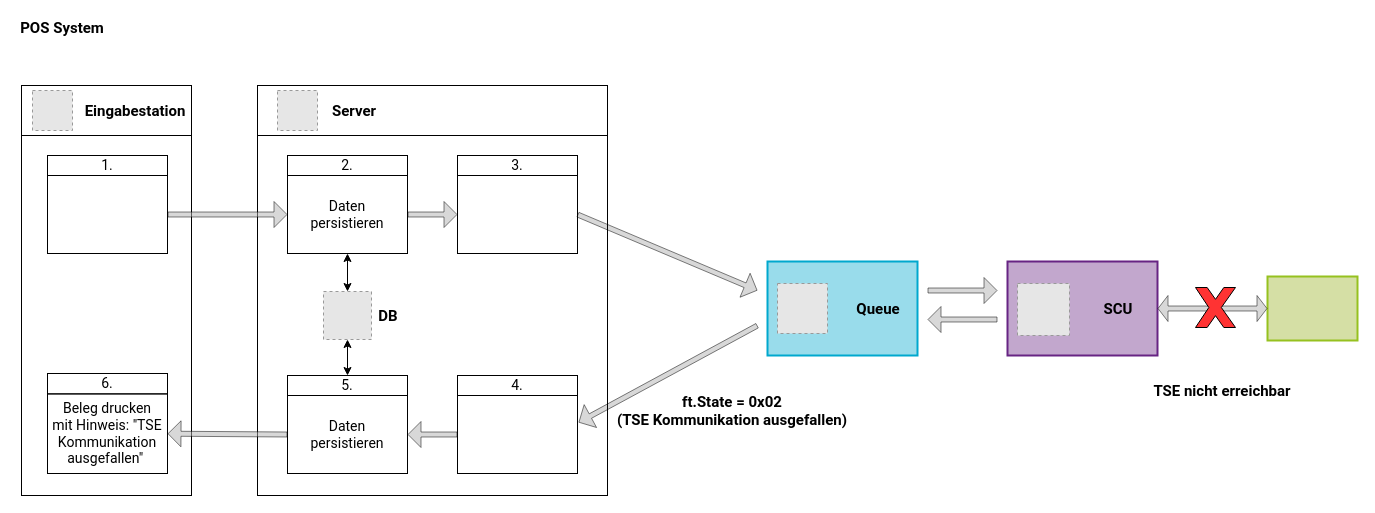
Some shapes in this 1375 by 513 pixel diagram are drawn without their labels. Grey dashed boxes stand in for pictures. Here are the shapes that lost their labels. From the top down, the centre of each, then its label:
At point 107,214: "Charge- und Pay-Items sammeln".
At point 517,214: "sign - Request senden".
At point 1312,308: "TSE".
At point 517,434: "Response prozessieren".
